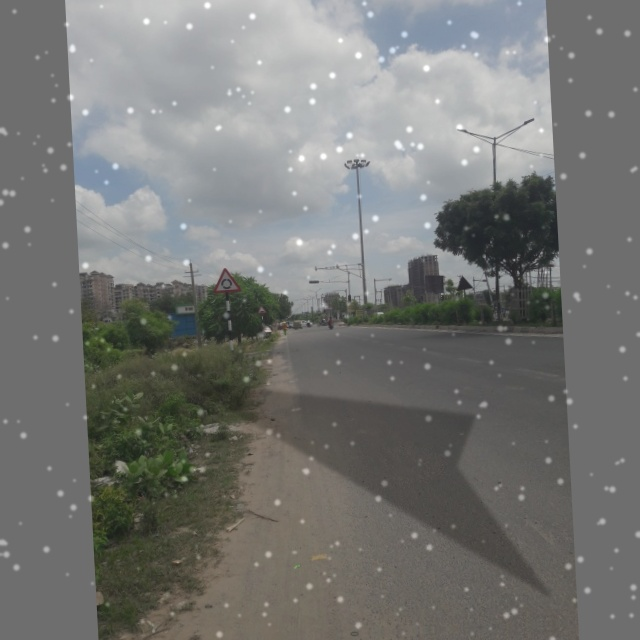Round_About: (209, 264, 245, 297)
